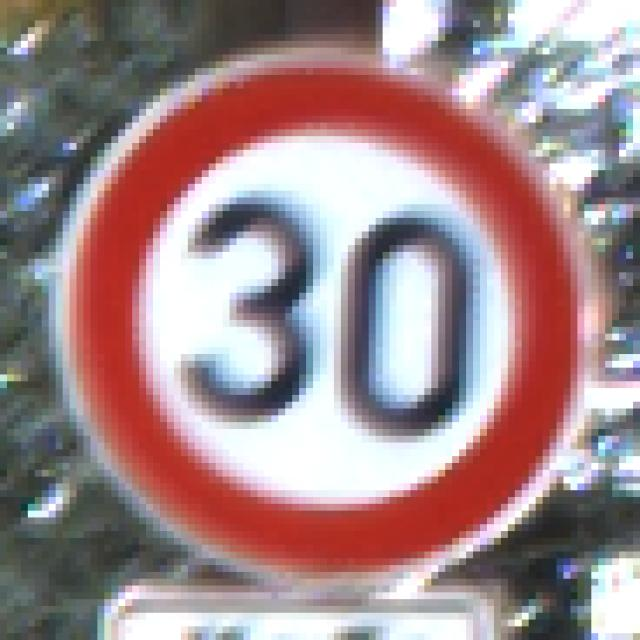Speed Limit -30-: (52, 51, 581, 582)
